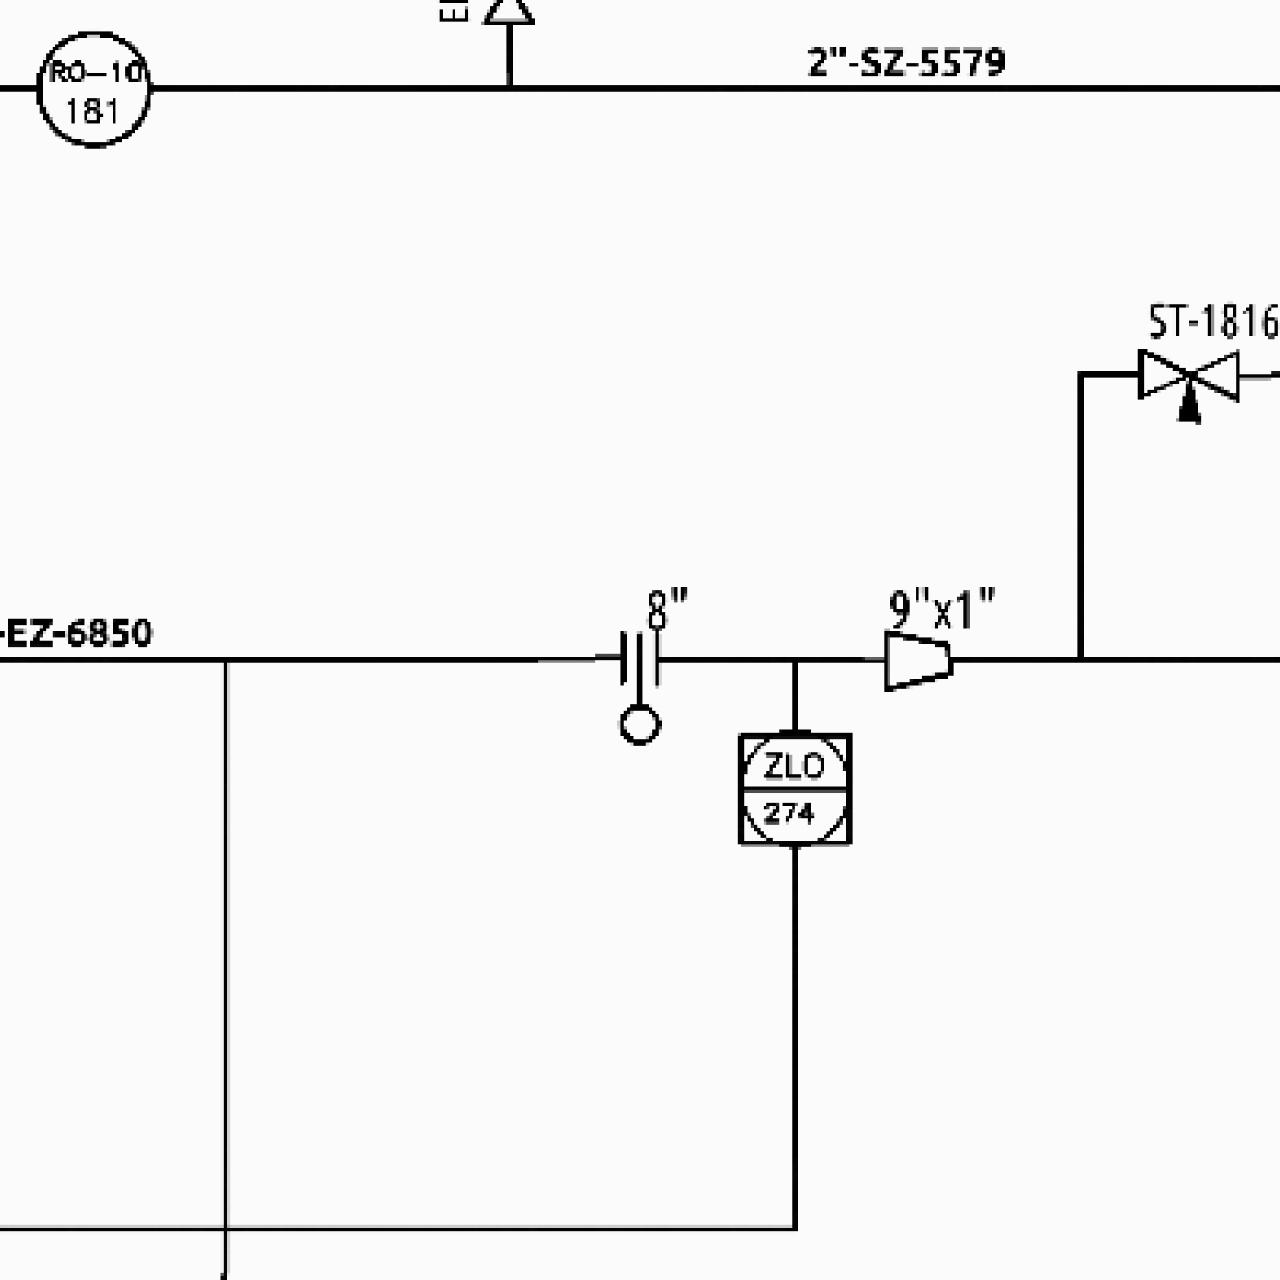Control-Panel: (29, 25, 156, 151)
